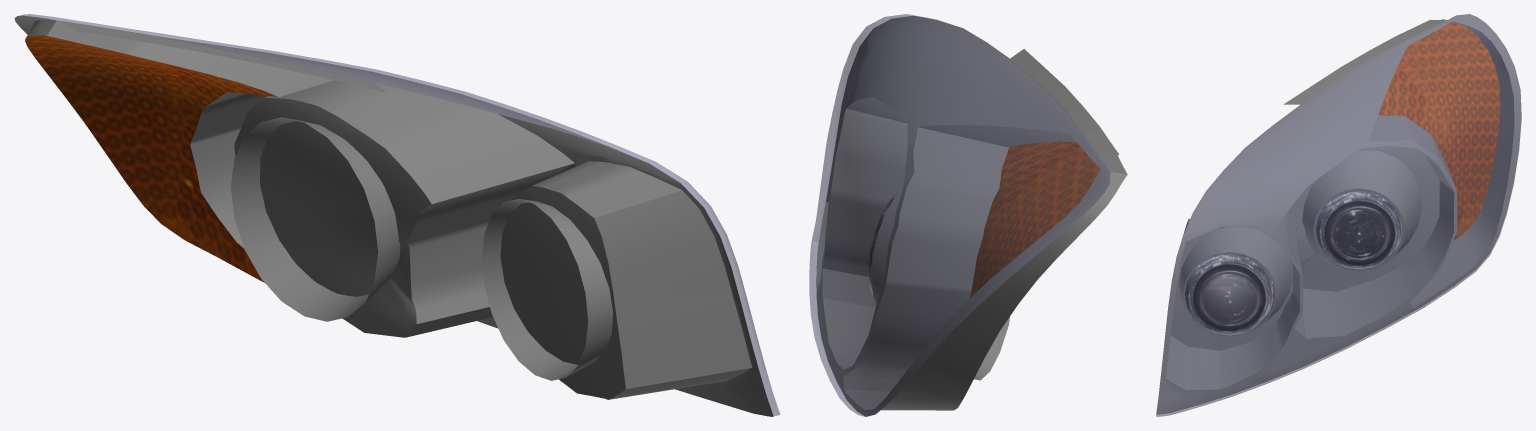
The picture shows the model from 3 angles, left to right: view 1: azimuth 30°, elevation 25°; view 2: azimuth 150°, elevation 25°; view 3: azimuth 270°, elevation 25°; orthographic projection. The views are drawn at different scales.
Visible parts, largest first — view 1: Y712_061B_L_1_DaS_Y712_061B_L, Y712_061B_L_Y712_061B_L_3_N, Y712_061B_L_Y712_061B_L_4_DTaSI; view 2: Y712_061B_L_Y712_061B_L_4_DTaSI, Y712_061B_L_1_DaS_Y712_061B_L, Y712_061B_L_Y712_061B_L_3_N, Y712_061B_L_Y712_061B_L_5_N; view 3: Y712_061B_L_Y712_061B_L_4_DTaSI, Y712_061B_L_1_DaS_Y712_061B_L, Y712_061B_L_Y712_061B_L_3_N, Y712_061B_L_Y712_061B_L_6_N, Y712_061B_L_Y712_061B_L_5_N.
Part boxes in pixels (left/top/right/bottom): Y712_061B_L_1_DaS_Y712_061B_L: left=14, top=15, right=773, bottom=416; Y712_061B_L_Y712_061B_L_3_N: left=25, top=35, right=277, bottom=282; Y712_061B_L_Y712_061B_L_4_DTaSI: left=19, top=14, right=780, bottom=416; Y712_061B_L_Y712_061B_L_4_DTaSI: left=809, top=14, right=1109, bottom=416; Y712_061B_L_1_DaS_Y712_061B_L: left=816, top=15, right=1127, bottom=416; Y712_061B_L_Y712_061B_L_3_N: left=970, top=141, right=1100, bottom=297; Y712_061B_L_Y712_061B_L_5_N: left=868, top=189, right=901, bottom=300; Y712_061B_L_Y712_061B_L_4_DTaSI: left=1156, top=14, right=1521, bottom=416; Y712_061B_L_1_DaS_Y712_061B_L: left=1156, top=14, right=1521, bottom=414; Y712_061B_L_Y712_061B_L_3_N: left=1378, top=22, right=1500, bottom=239; Y712_061B_L_Y712_061B_L_6_N: left=1184, top=253, right=1274, bottom=335; Y712_061B_L_Y712_061B_L_5_N: left=1316, top=191, right=1402, bottom=269.
Size of the model in its own units: 42.59 by 28.03 by 39.04.
